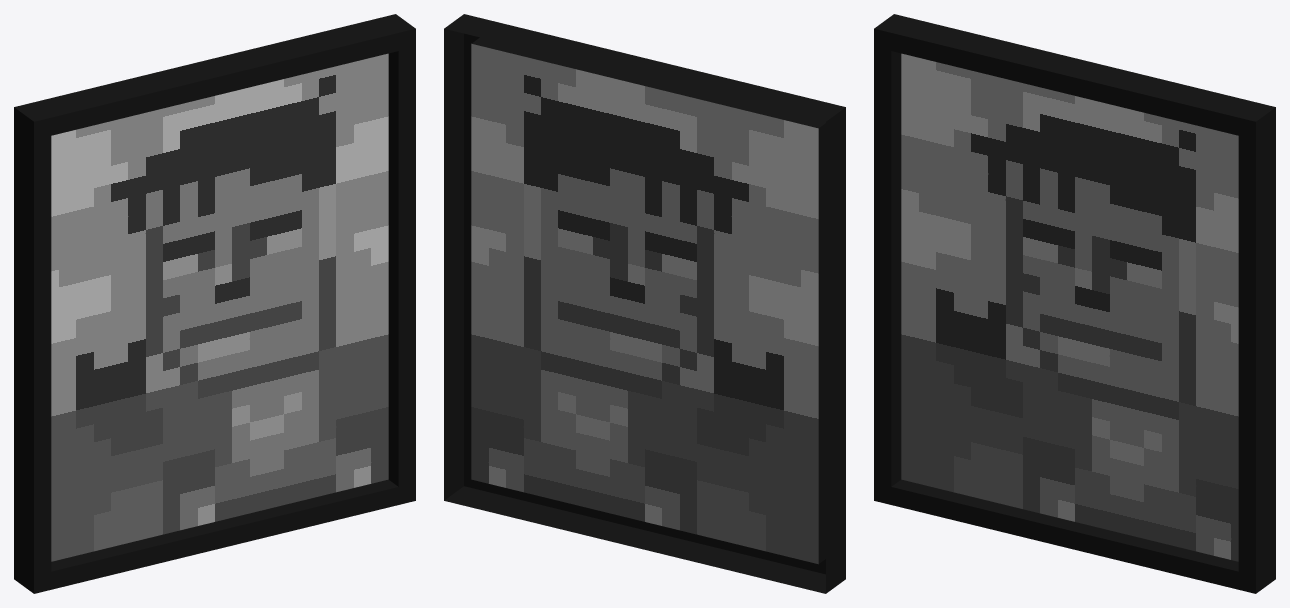
File: Painting03.fbx
3 views of the same model, side by side, from view 1: azimuth 30°, elevation 25°; view 2: azimuth 150°, elevation 25°; view 3: azimuth 330°, elevation 25° (orthographic).
Parts seen in each view (by area): view 1: Matrix; view 2: Matrix; view 3: Matrix.
Boxes of the visible parts, x1,y1,x2,y2 form: Matrix: [14, 14, 415, 593]; Matrix: [444, 14, 845, 593]; Matrix: [874, 14, 1275, 593].
Size of the model in its own units: 22 by 26 by 2.
